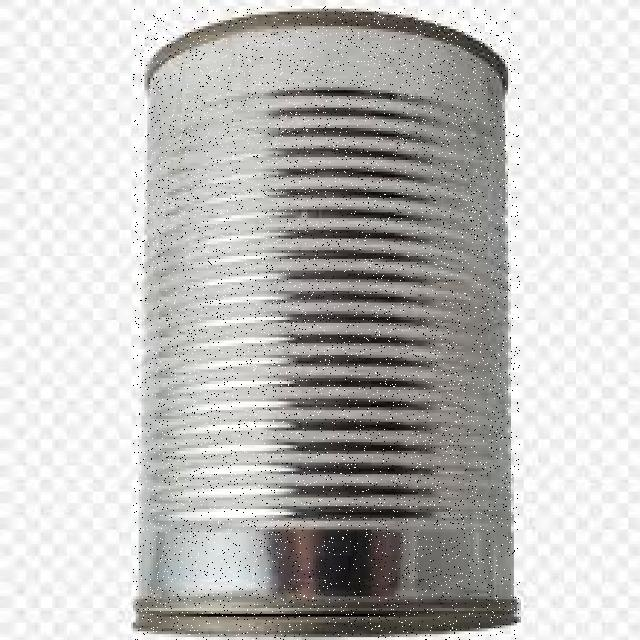metal: (134, 6, 520, 640)
